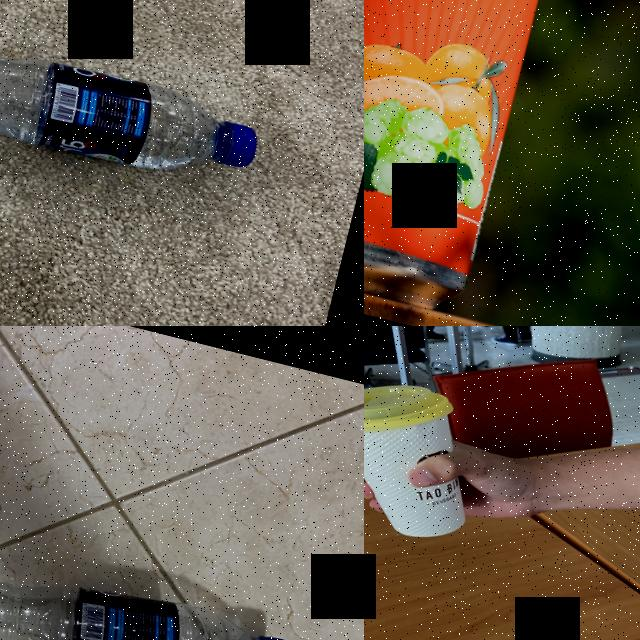bottle: (0, 8, 269, 207), (0, 527, 308, 640)
can: (364, 0, 604, 321)
cup: (364, 362, 496, 549)
